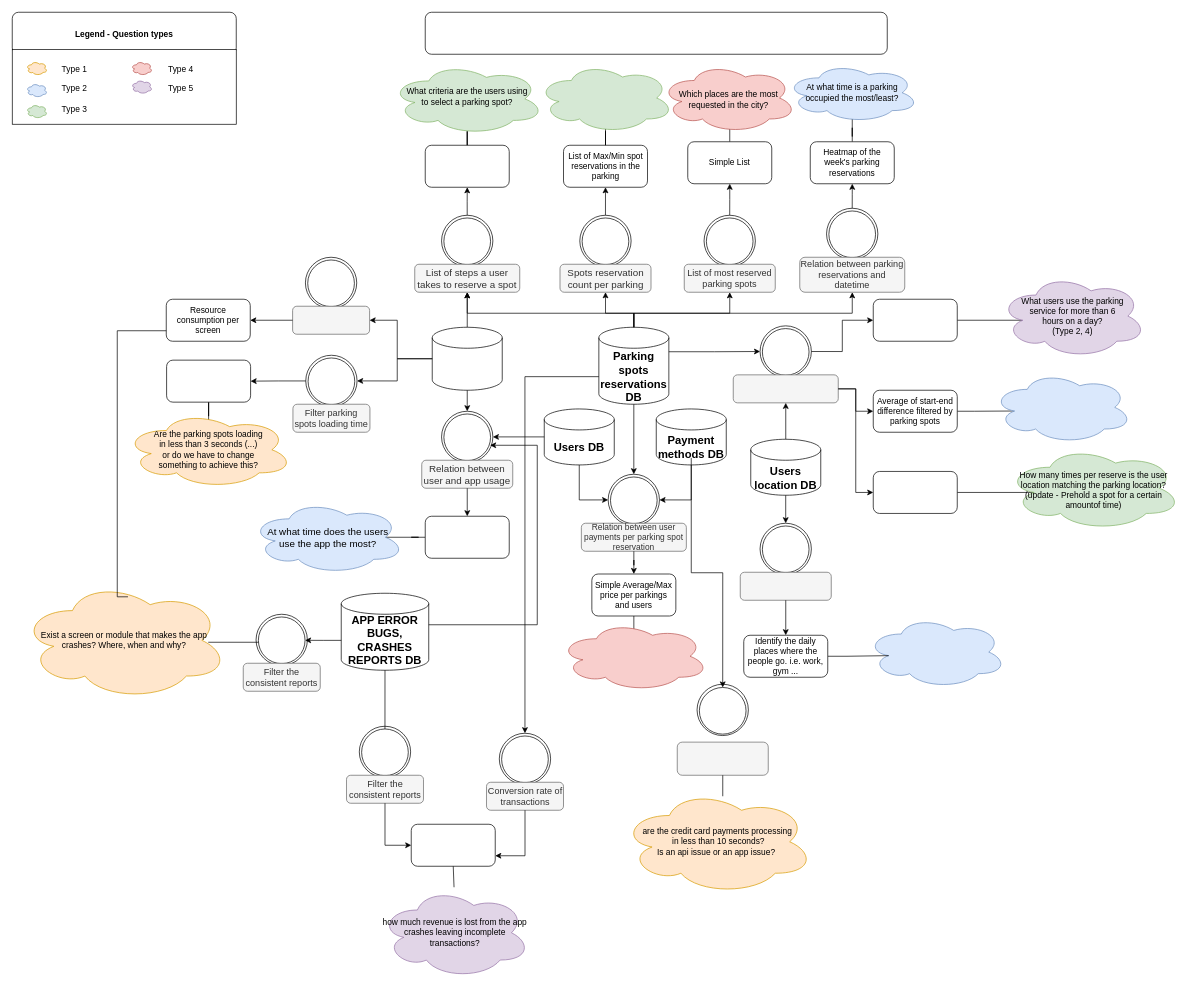
The diagram is 1194 pixels wide and 991 high, and some of its shapes have lost their labels. The shapes that lost their labels are listed below. From the top down, each one's centre as x and y in pixels, then its label:
(656,33): ParkEz - Visualization data map
(605,97): Which spots and sections of the parking are the most/less used?
(467,166): Diagram of criteria to reserve a spot
(331,320): Filter resource consumption
(915,320): List Users that use the service more than 6 hours a day
(467,358): App Interactions DB
(208,380): Simple loading time statistics
(785,388): Relation between Parking spot reservation start-end and User location
(1062,407): What is the average waiting time for a parking spot to be freed?
(915,492): Count of matching user location and parking location
(467,537): Heatmap per week with daily usage
(785,586): Filter User frequented places
(633,656): What is the average/maximum price a user would pay for reserving a parking spot?
(936,651): What are the nearest parkings from the users' most frequented places?
(722,758): Filter the credit card payments by time.
(453,845): Relation vetean the crashes reports and its consequences on the conversion rate.
